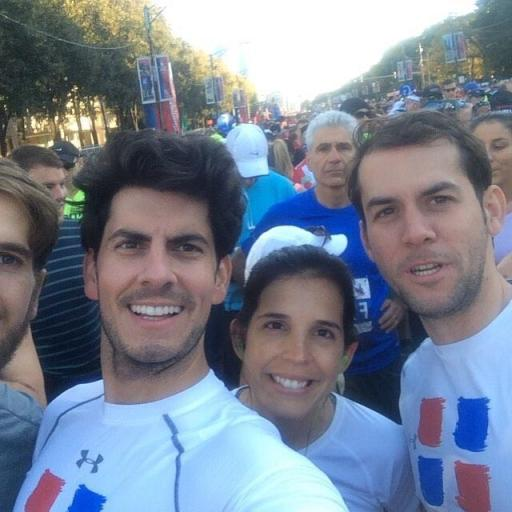Under Armour: (73, 446, 105, 476)
